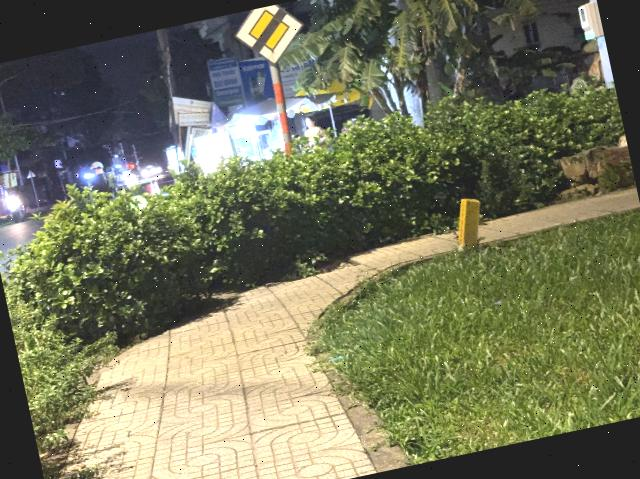het-duong-uu-tien: (228, 0, 311, 72)
